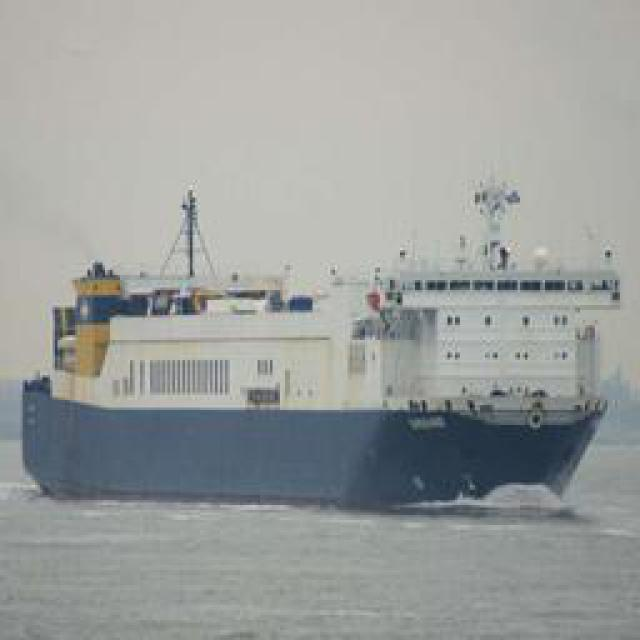Ship: (19, 170, 612, 505)
